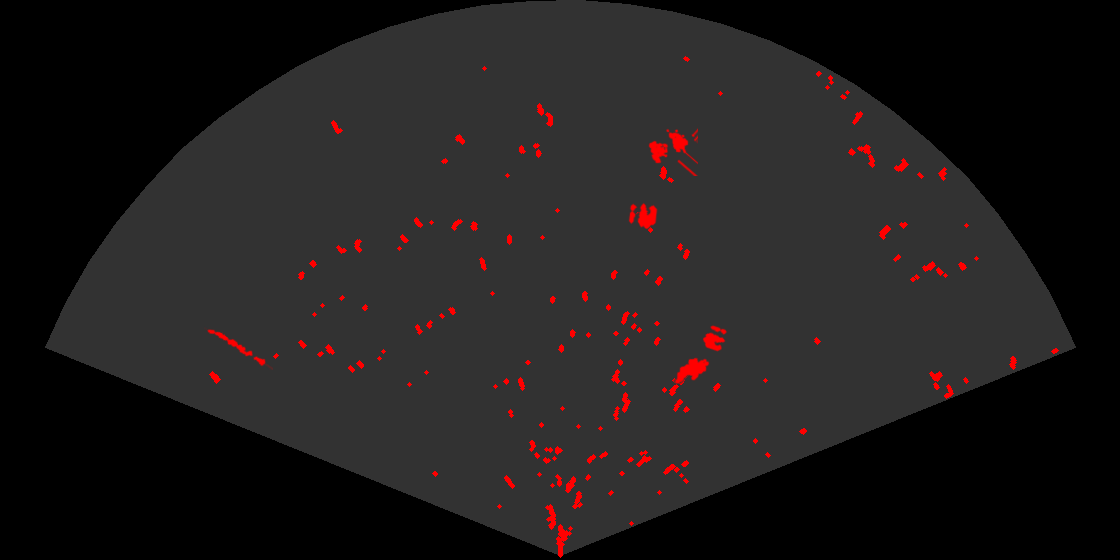AUV: (673, 356, 711, 385)
ball: (627, 201, 659, 231), (701, 324, 729, 353)
cage: (647, 126, 698, 176)
chain: (204, 326, 273, 370)
